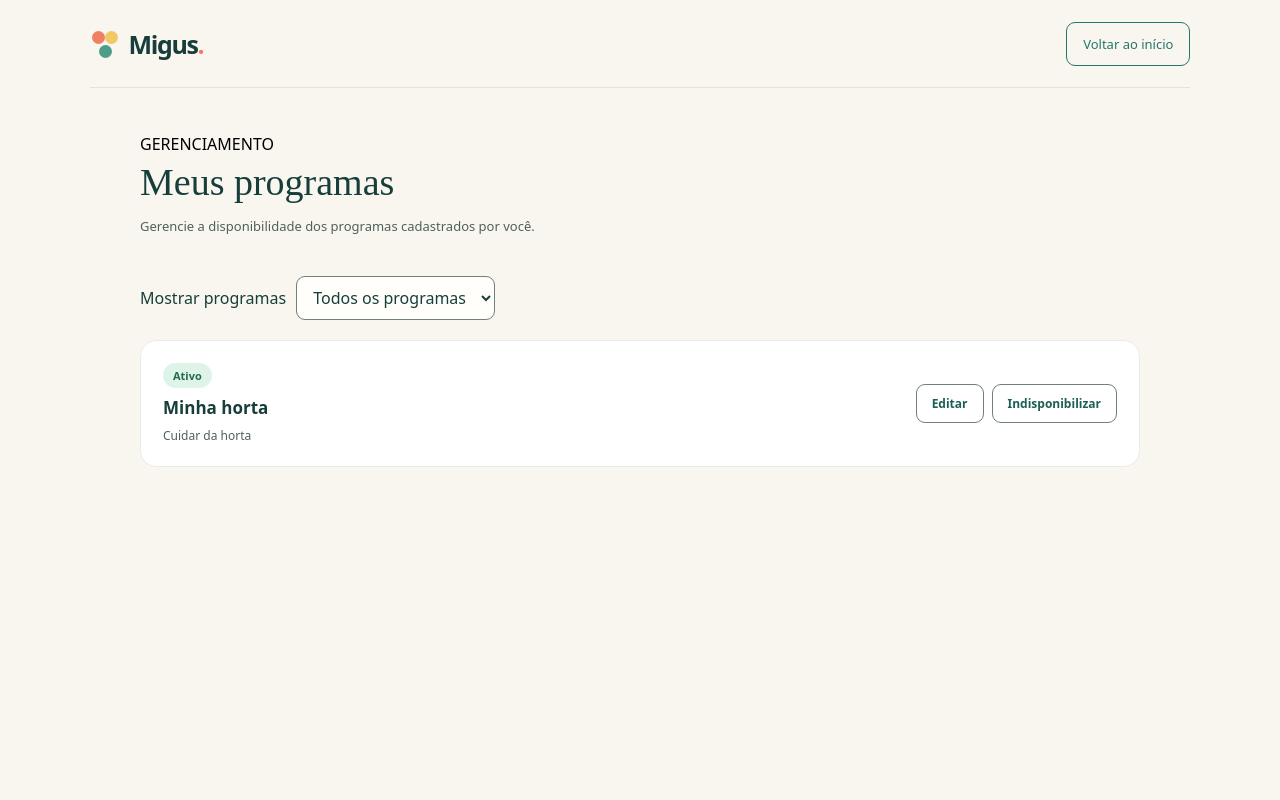
mostra carregamento e impede confirmar duas vezes
The width and height of the screenshot is (1280, 800).
Click the button "Indisponibilizar" at [1054, 404], box [992, 384, 1117, 423]
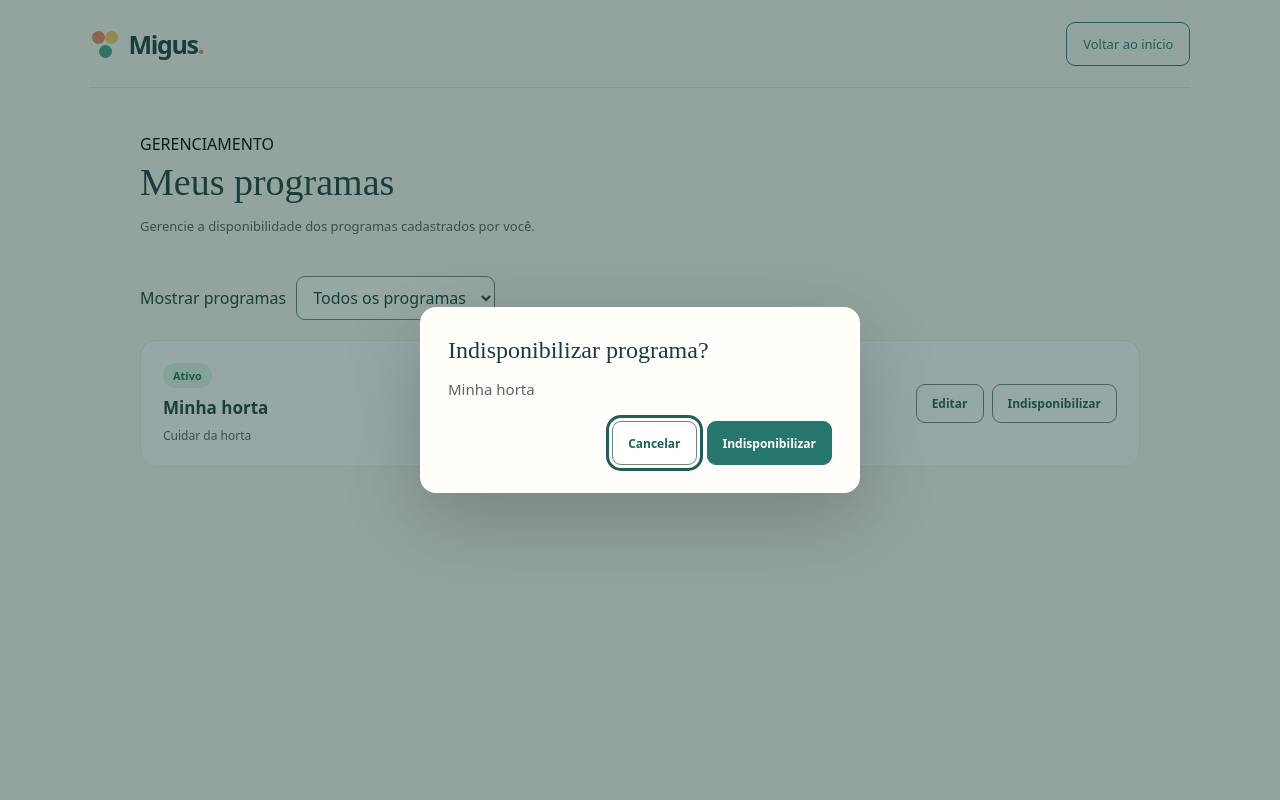
Click the button "Indisponibilizar" at [769, 443], box [706, 421, 832, 465]
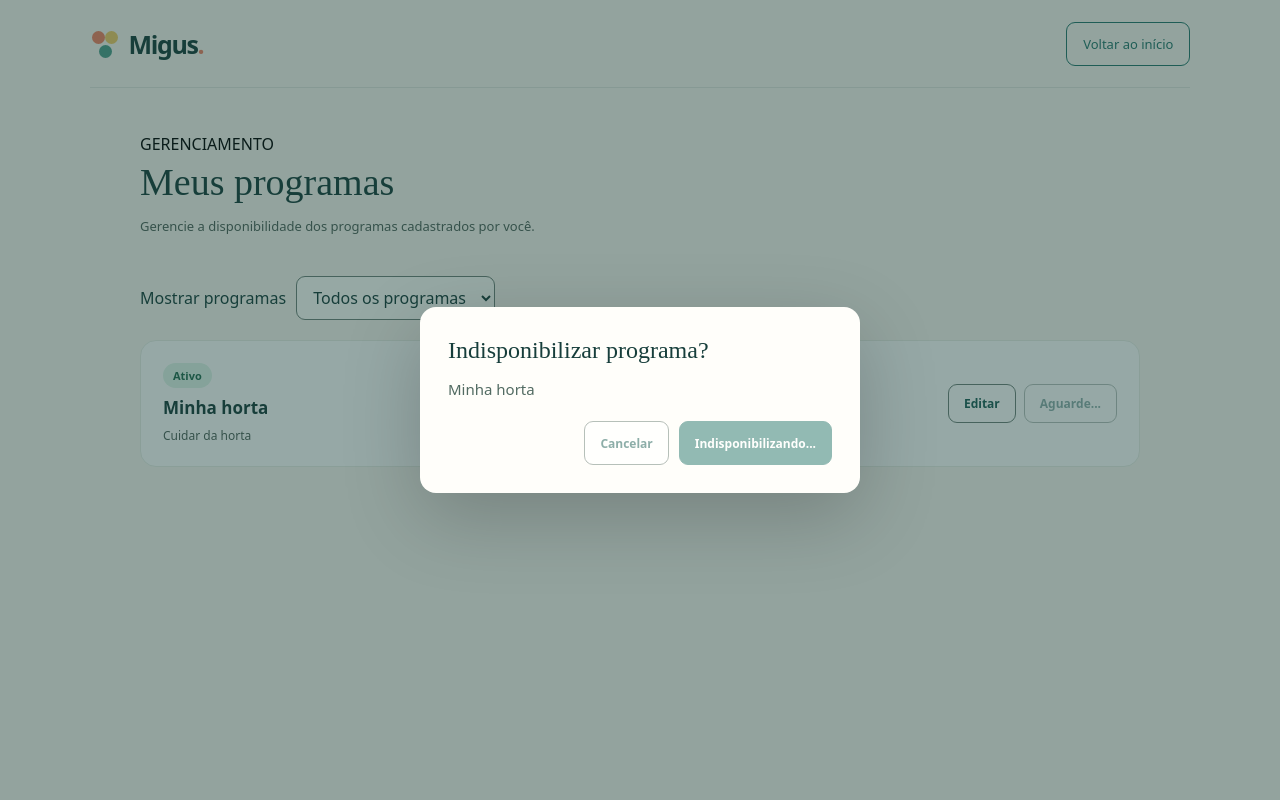
Expected: the button "Indisponibilizando..." is disabled
Click the button "Indisponibilizando..." at [755, 443], box [679, 421, 832, 465]
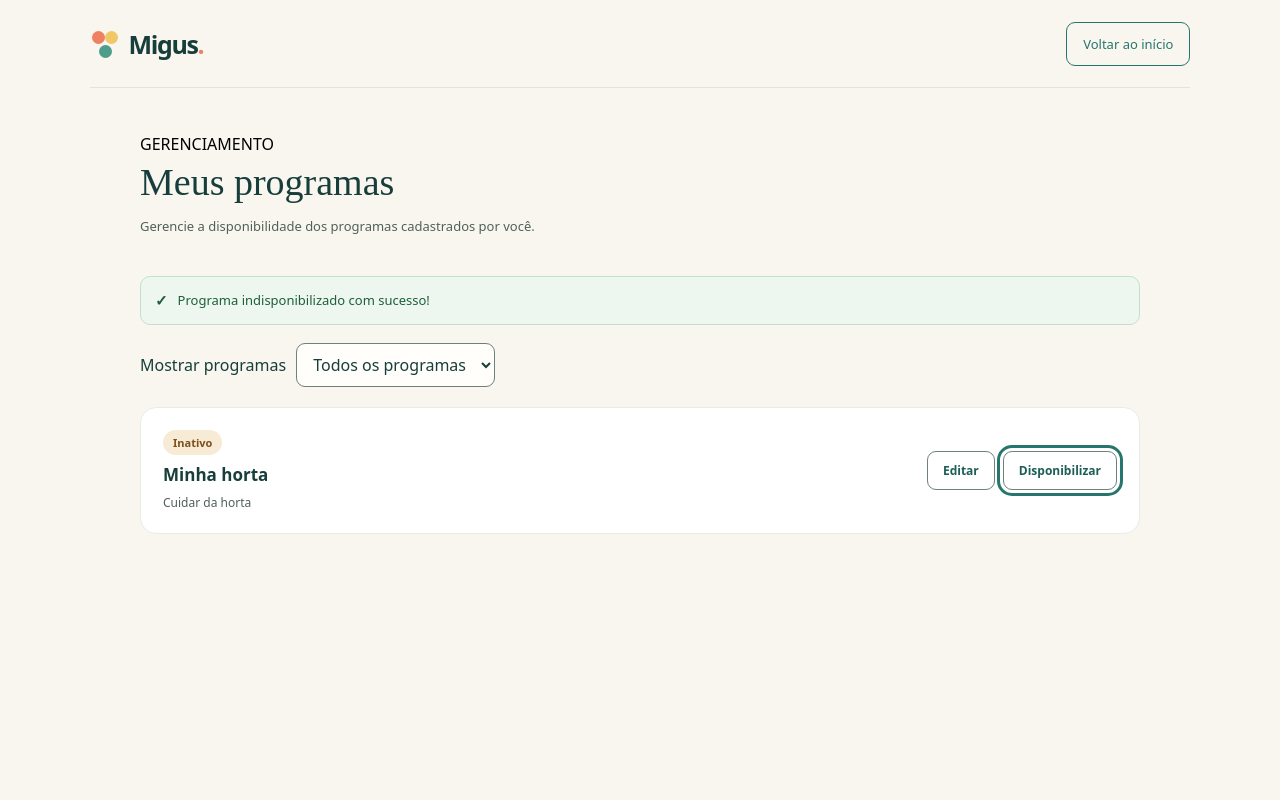
Expected: the text "Programa indisponibilizado com sucesso!" is shown, [178, 290, 430, 308]
